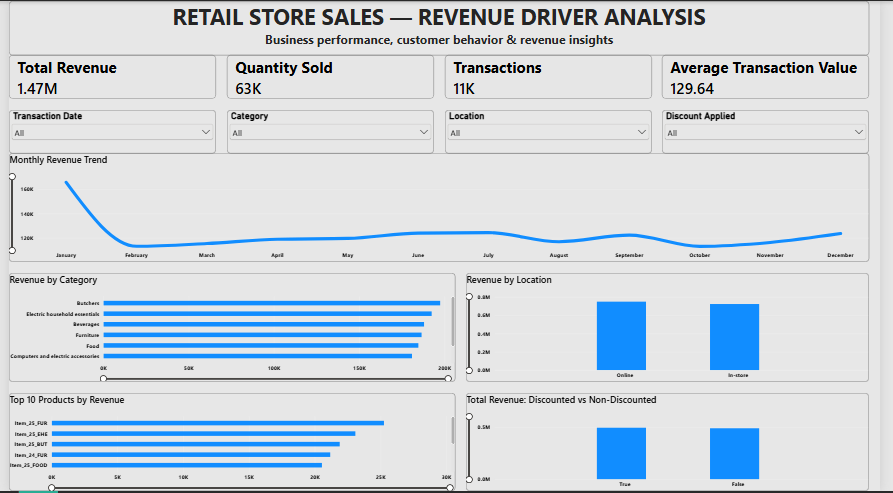

Layout of this report page (visuals, bound fields, positions):
{"tool":"powerbi","page":{"name":"Page 1","canvas":[1920,1080],"ordinal":0},"visuals":[{"type":"cardVisual","fields":{"Data":["retail_store_sales_clean.Total Revenue"]},"box":[0,120,456,96],"z":0},{"type":"cardVisual","fields":{"Data":["retail_store_sales_clean.Quantity Sold"]},"box":[480,120,456,96],"z":1000},{"type":"cardVisual","fields":{"Data":["retail_store_sales_clean.Transactions"]},"box":[960,120,456,96],"z":2000},{"type":"cardVisual","fields":{"Data":["retail_store_sales_clean.Average Transaction Value"]},"box":[1440,120,456,96],"z":3000},{"type":"lineChart","title":"Monthly Revenue Trend","fields":{"Category":["retail_store_sales_clean.Transaction Date.Variation.Date Hierarchy.Month"],"Y":["retail_store_sales_clean.Total Revenue"]},"box":[0,336,1896,240],"z":4000},{"type":"clusteredBarChart","title":"Revenue by Category","fields":{"Category":["retail_store_sales_clean.Category"],"Y":["retail_store_sales_clean.Total Revenue"]},"box":[0,600,984,240],"z":5000},{"type":"clusteredColumnChart","title":"Revenue by Location","fields":{"Category":["retail_store_sales_clean.Location"],"Y":["retail_store_sales_clean.Total Revenue"]},"box":[1008,600,888,240],"z":6000},{"type":"clusteredBarChart","title":"Top 10 Products by Revenue","fields":{"Category":["retail_store_sales_clean.Item"],"Y":["retail_store_sales_clean.Total Revenue"]},"box":[0,864,984,216],"z":7000},{"type":"clusteredColumnChart","title":"Total Revenue: Discounted vs Non-Discounted","fields":{"Category":["retail_store_sales_clean.Discount Applied"],"Y":["retail_store_sales_clean.Total Revenue"]},"box":[1008,864,888,216],"z":7001},{"type":"slicer","fields":{"Values":["retail_store_sales_clean.Category"]},"box":[480,240,456,96],"z":7002},{"type":"slicer","fields":{"Values":["retail_store_sales_clean.Transaction Date"]},"box":[0,240,456,96],"z":7003},{"type":"slicer","fields":{"Values":["retail_store_sales_clean.Location"]},"box":[960,240,456,96],"z":7004},{"type":"slicer","fields":{"Values":["retail_store_sales_clean.Discount Applied"]},"box":[1440,240,456,96],"z":7005},{"type":"textbox","box":[0,0,1896,120],"z":7006}]}

Visuals, with their boxes in screenshot pixels (x1, y1, x2, y2), scaled from the page's 1920x1080 canvas onto the 893x493 screenshot:
cardVisual - retail_store_sales_clean.Total Revenue: bbox(0, 55, 212, 99)
cardVisual - retail_store_sales_clean.Quantity Sold: bbox(223, 55, 435, 99)
cardVisual - retail_store_sales_clean.Transactions: bbox(446, 55, 659, 99)
cardVisual - retail_store_sales_clean.Average Transaction Value: bbox(670, 55, 882, 99)
"Monthly Revenue Trend" lineChart: bbox(0, 153, 882, 263)
"Revenue by Category" clusteredBarChart: bbox(0, 274, 458, 383)
"Revenue by Location" clusteredColumnChart: bbox(469, 274, 882, 383)
"Top 10 Products by Revenue" clusteredBarChart: bbox(0, 394, 458, 492)
"Total Revenue: Discounted vs Non-Discounted" clusteredColumnChart: bbox(469, 394, 882, 492)
slicer - retail_store_sales_clean.Category: bbox(223, 110, 435, 153)
slicer - retail_store_sales_clean.Transaction Date: bbox(0, 110, 212, 153)
slicer - retail_store_sales_clean.Location: bbox(446, 110, 659, 153)
slicer - retail_store_sales_clean.Discount Applied: bbox(670, 110, 882, 153)
textbox: bbox(0, 0, 882, 55)
